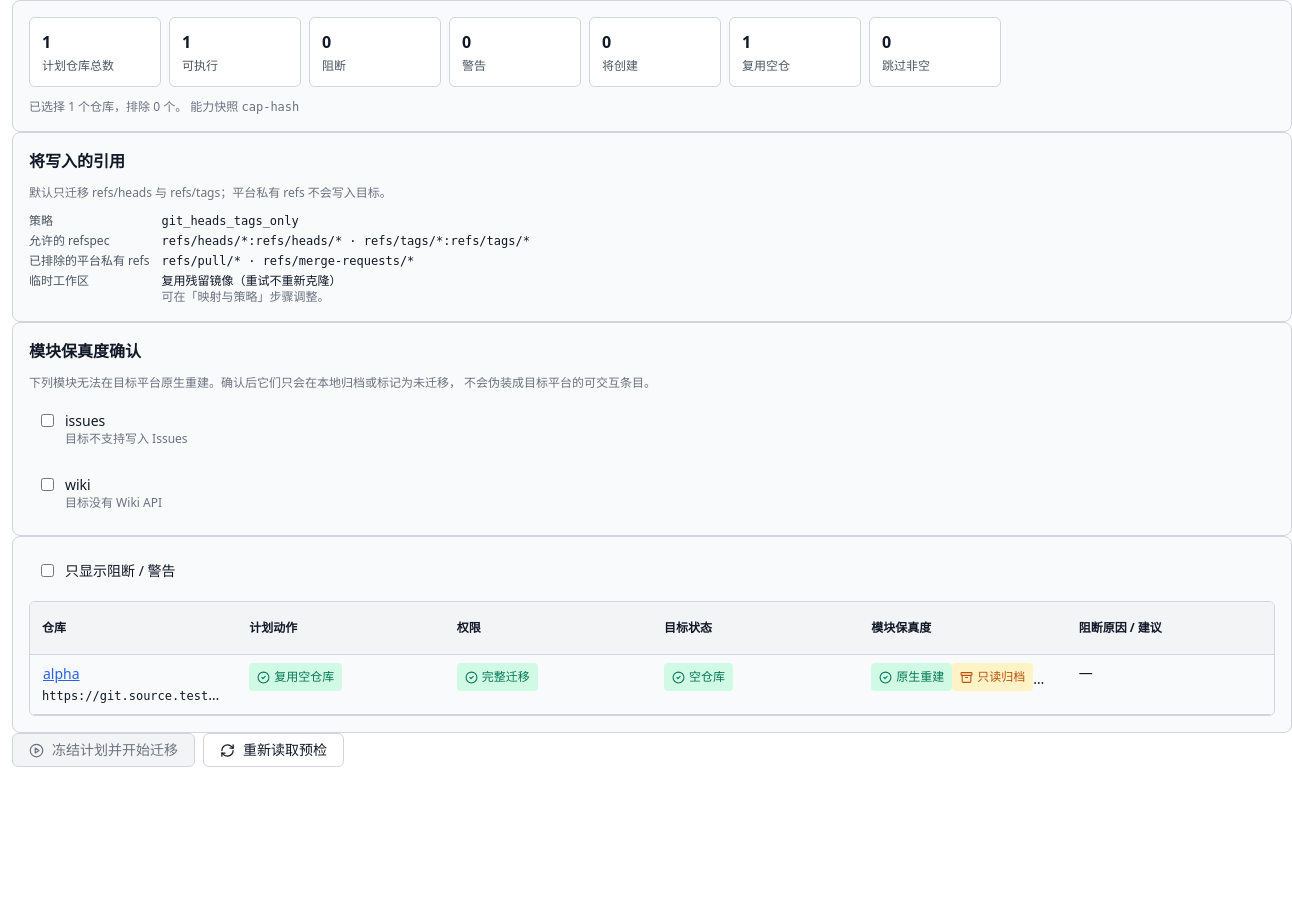
it: 预检页 › 三档保真度全部显式展示，降级模块必须逐项确认
Expected: the text "原生重建" is shown, [896,663,944,691]
Expected: the text "只读归档" is shown, [977,663,1025,691]
Click the checkbox named "确认模块 issues 的降级处理" at (48, 420), box [41,414,54,427]
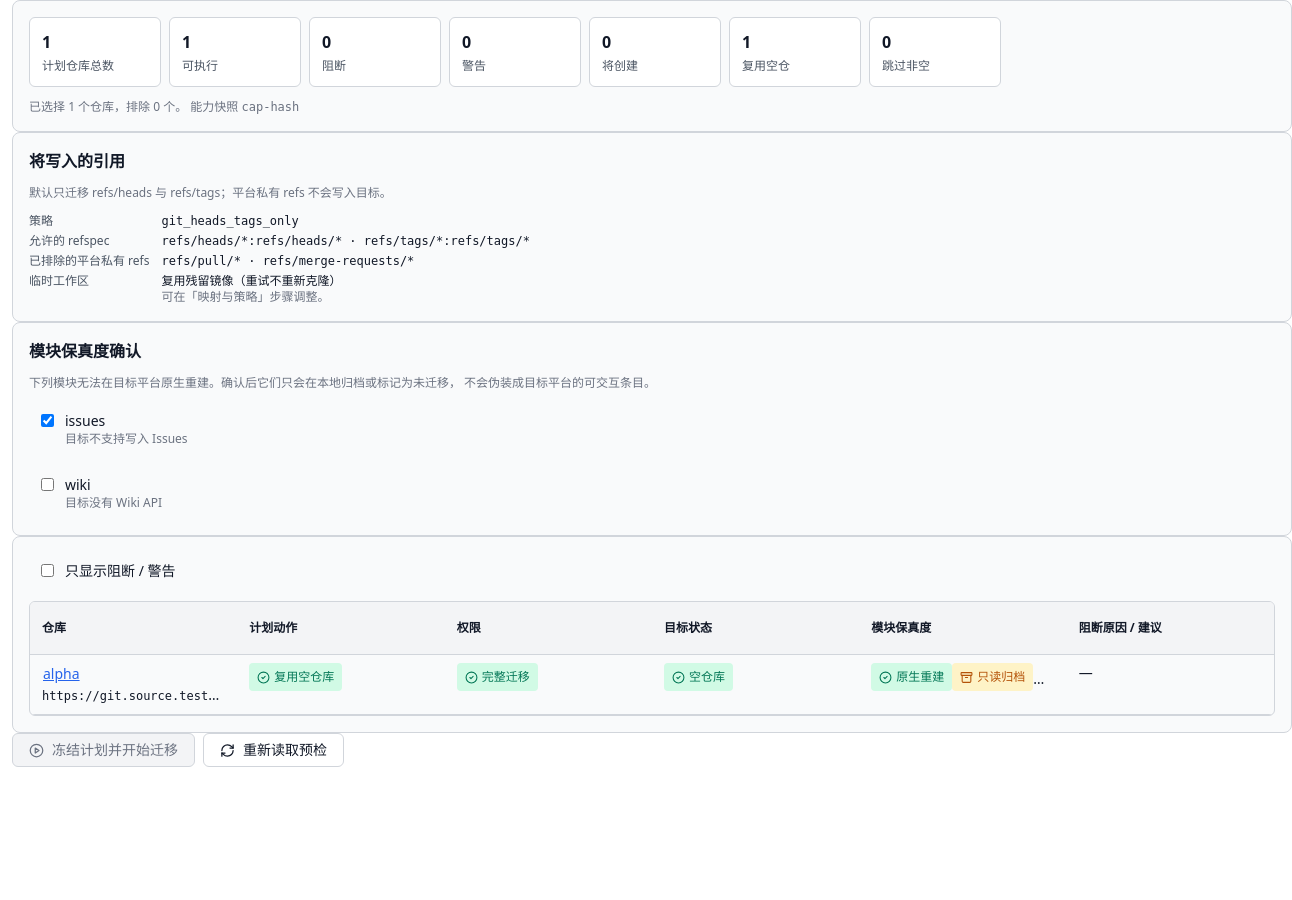
Click the checkbox named "确认模块 wiki 的降级处理" at (48, 484), box [41,478,54,491]
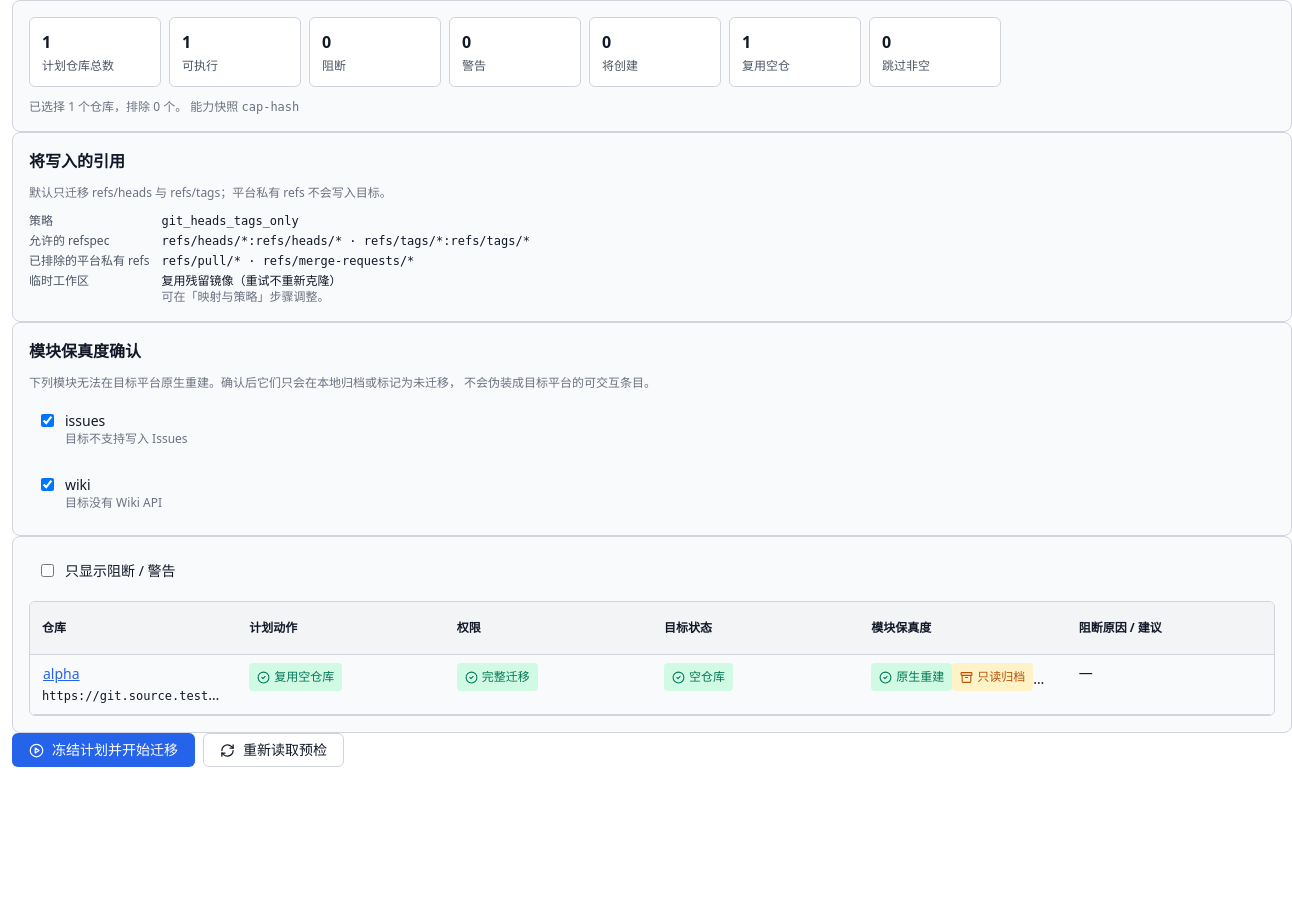
Now the button "冻结计划并开始迁移" is enabled, box [12,733,195,767]
